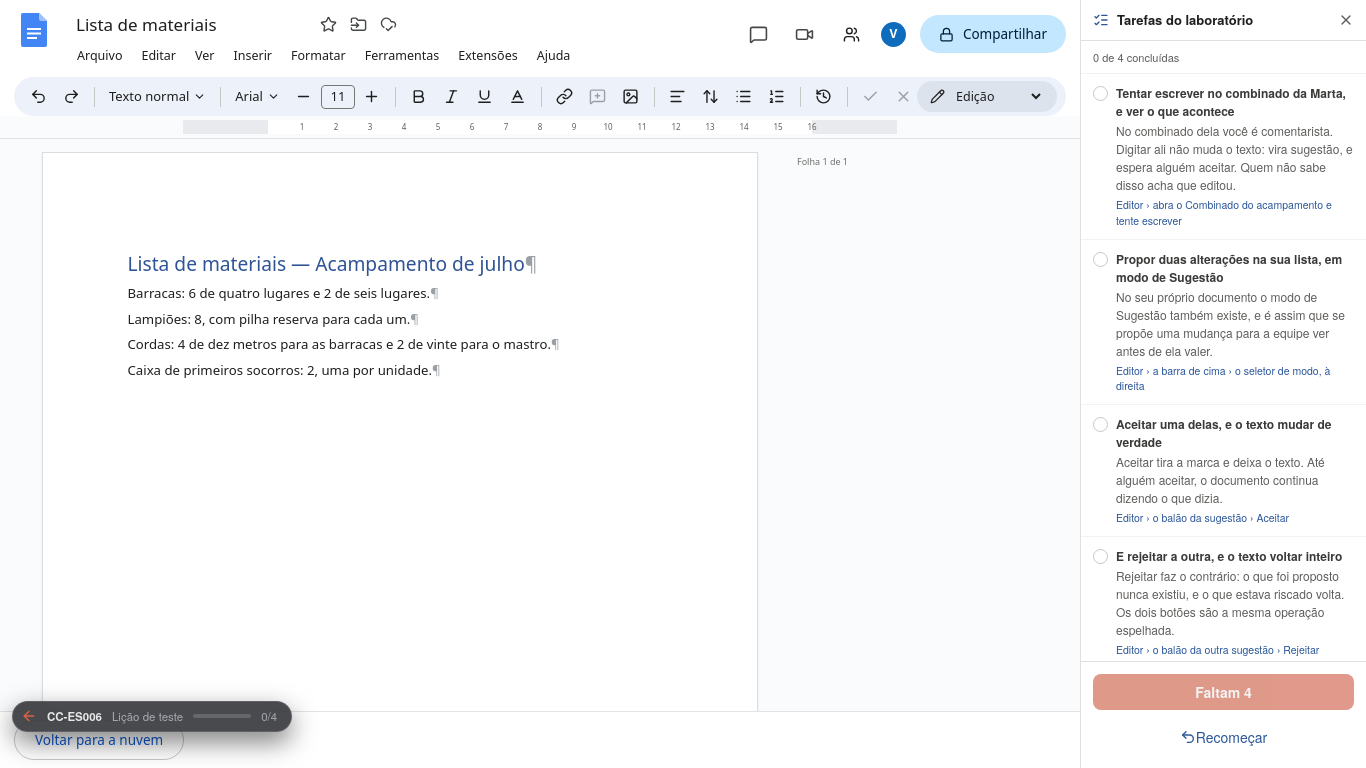
Test: a lição da sugestão fecha clicando › e no documento da Marta o que se digita não entra como texto
The width and height of the screenshot is (1366, 768).
Click the button "Voltar para a nuvem". click: (99, 740)
box: [14,720,184,760]
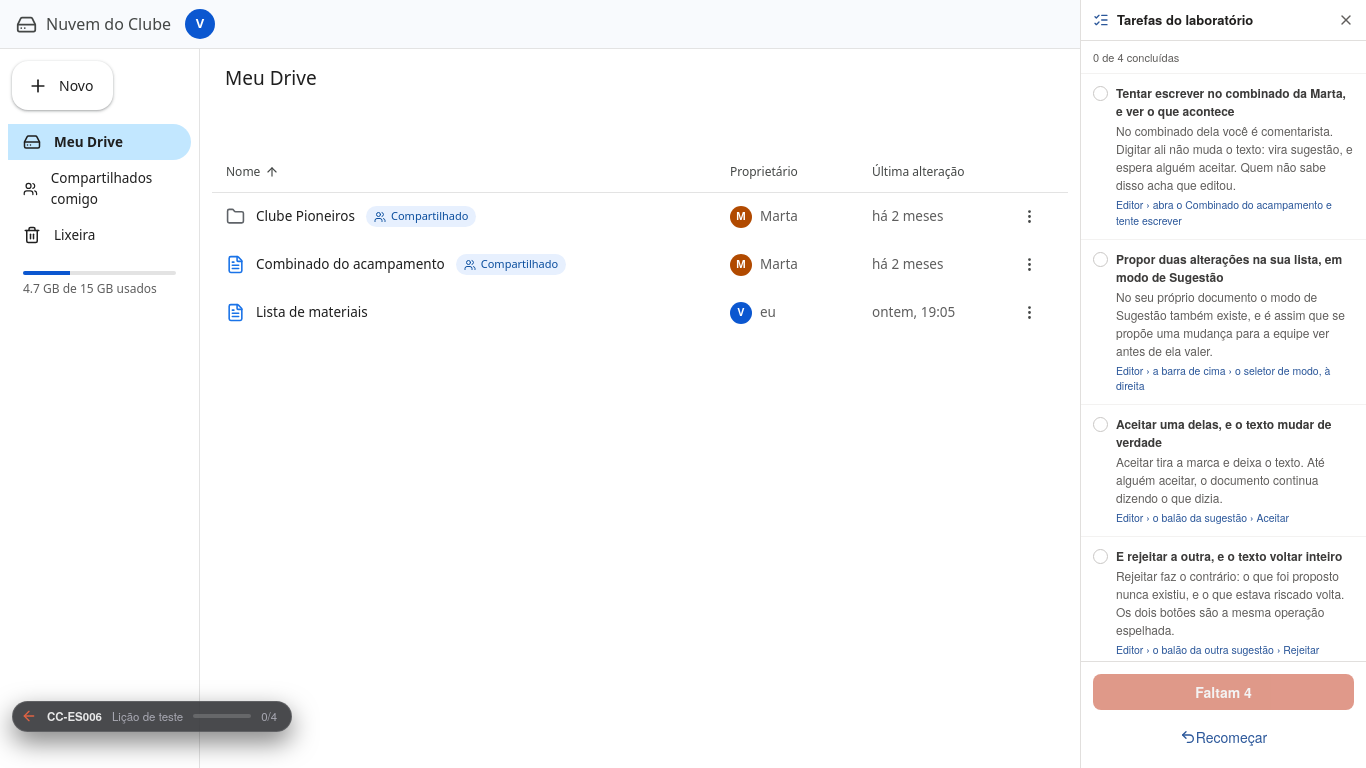
Check: the row with class "nv-linha" that starts with "Combinado do acampamento" is shown
Double-click the row with class "nv-linha" that starts with "Combinado do acampamento" at (350, 264), box [212,240,1068,288]
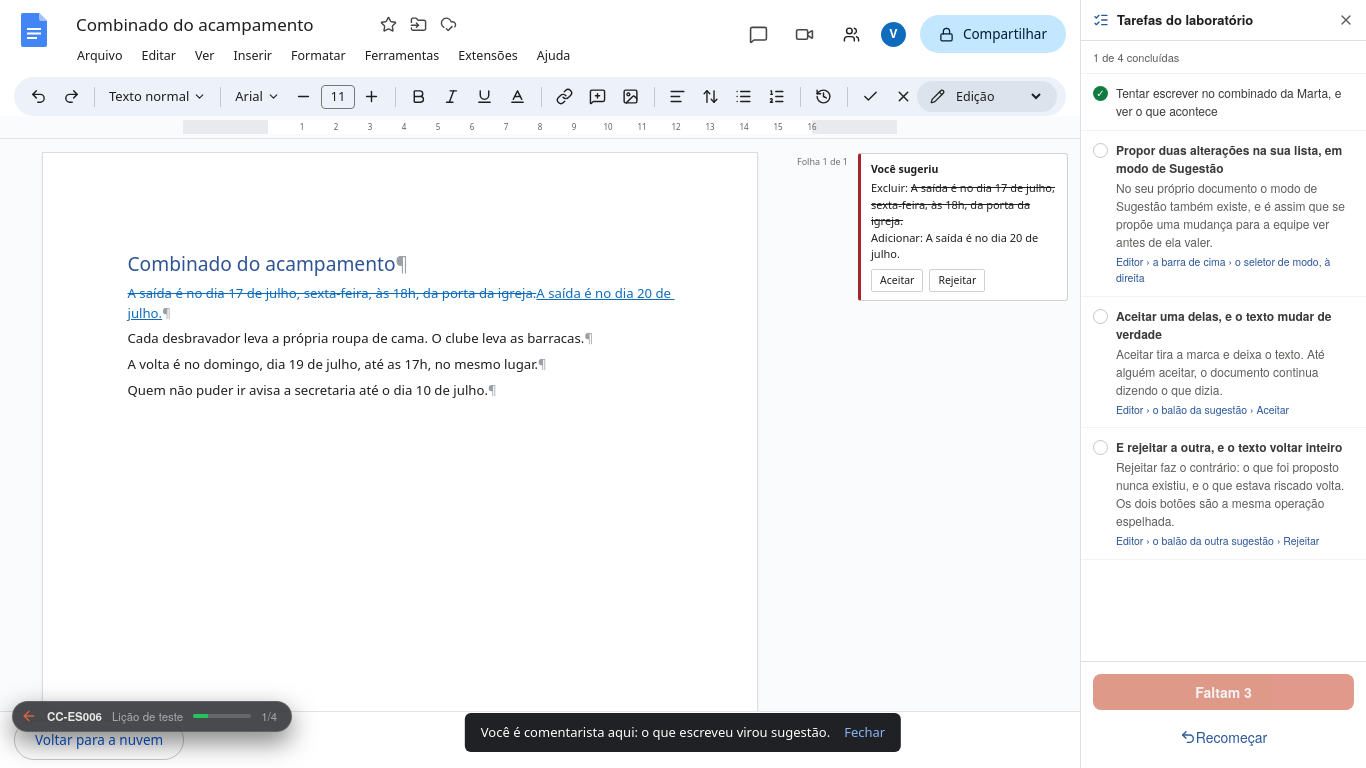
Check: the 2nd text box is shown, box [128,284,672,323]
Check: the element that starts with "Você" is shown, box [858,153,1068,301]
